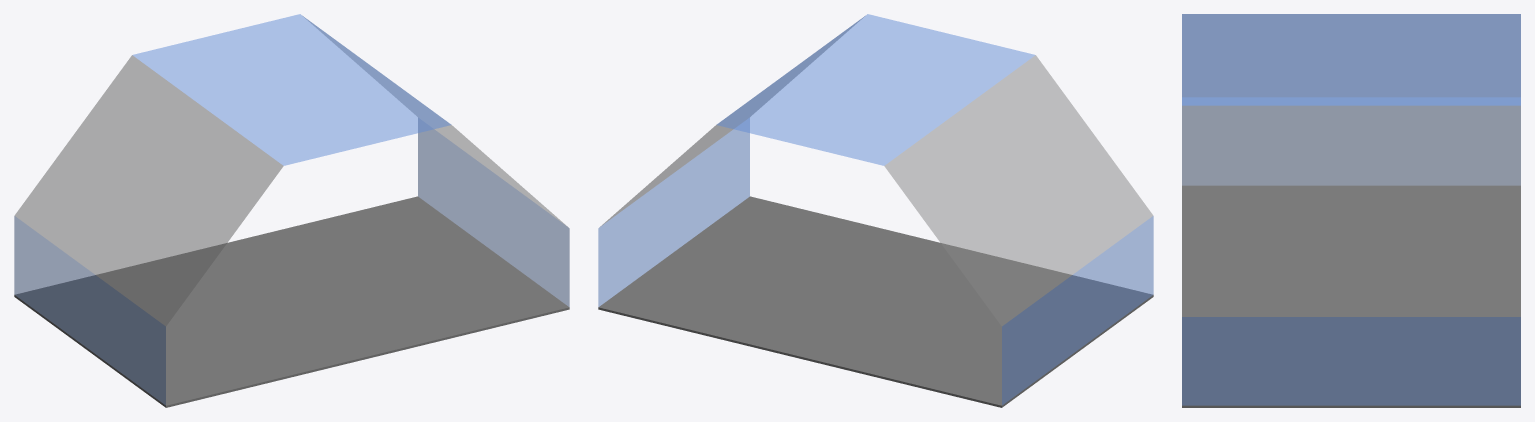
3 renders of one model, left to right at view 1: azimuth 30°, elevation 25°; view 2: azimuth 150°, elevation 25°; view 3: azimuth 270°, elevation 25°, orthographic. The views are drawn at different scales.
Visible parts, largest first — view 1: root; view 2: root; view 3: root.
Boxes of the visible parts, bbox=[...] form: root: bbox=[14, 14, 569, 407]; root: bbox=[598, 14, 1153, 407]; root: bbox=[1182, 14, 1520, 407].
Size of the model in its own units: 4.88 by 2.46 by 3.17.
